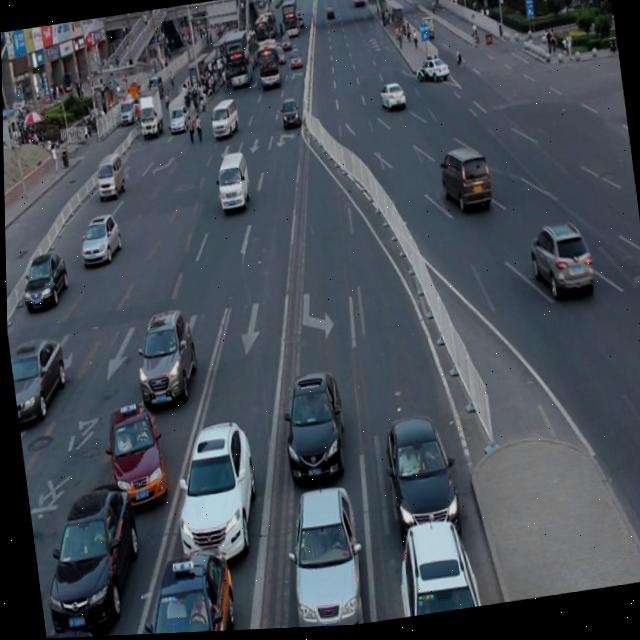car: (33, 477, 146, 639), (163, 416, 262, 569), (276, 478, 365, 631), (378, 409, 458, 544), (387, 512, 484, 621), (125, 540, 235, 636), (274, 367, 348, 487), (100, 396, 169, 513), (127, 303, 200, 411), (524, 222, 593, 307), (6, 333, 68, 420), (435, 146, 492, 219), (17, 249, 70, 313), (76, 211, 123, 267), (42, 623, 98, 639)
truck: (212, 152, 251, 214), (92, 152, 127, 202)
